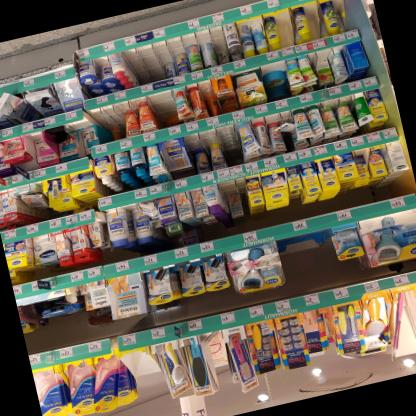empty_space: (279, 226, 337, 285), (115, 344, 163, 383), (128, 42, 161, 81), (236, 176, 249, 212)
